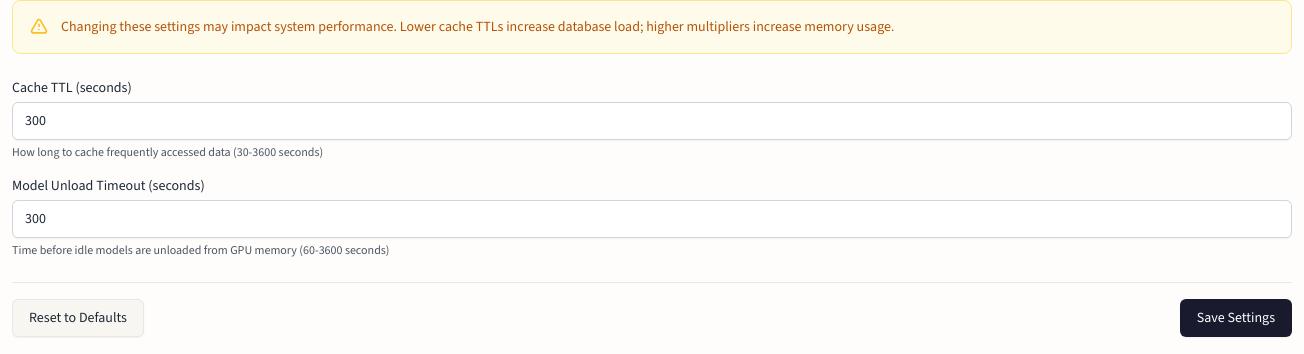
Test: PerformanceSettings › form interactions › updates cache TTL input
This screenshot has width=1304, height=354.
Click the number field below "Cache TTL (seconds)" at (652, 121), box [12,102,1292,140]
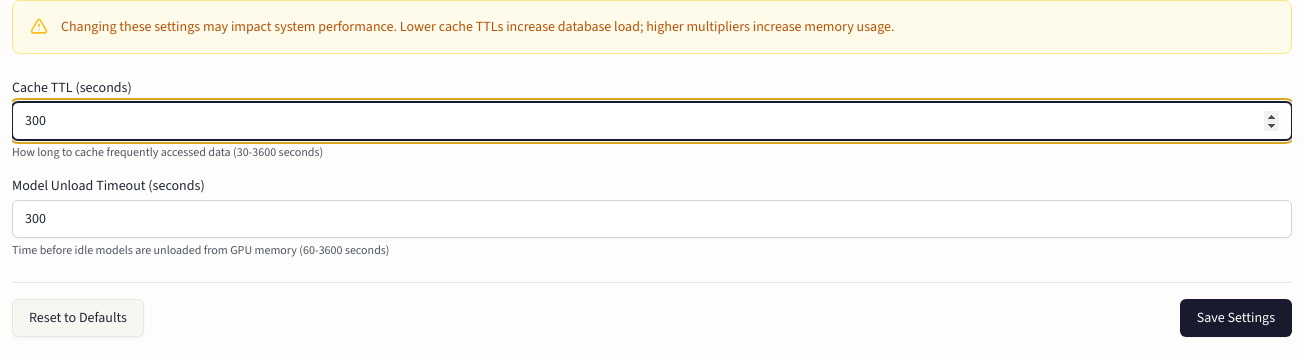
Type keys "600"
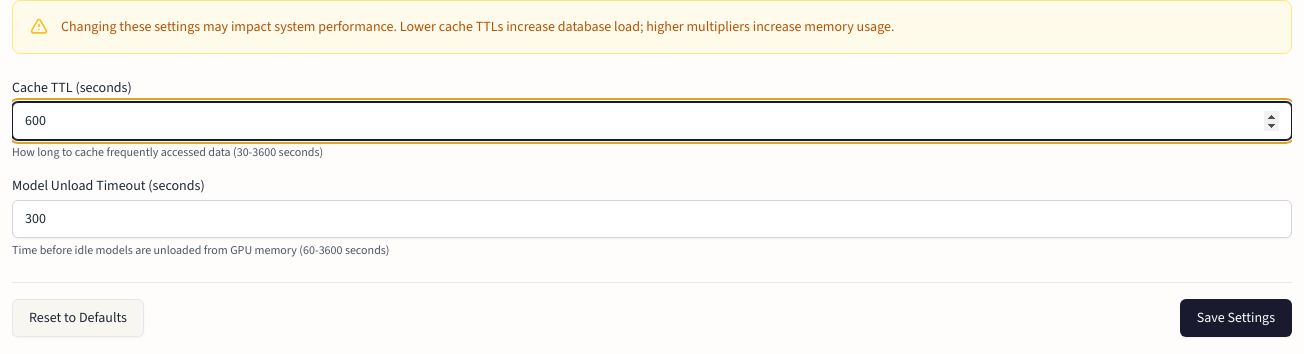
Expected: the number field below "Cache TTL (seconds)" holds "600", [12,102,1292,140]
